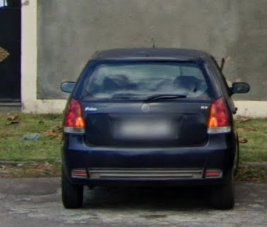car: (58, 47, 251, 215)
